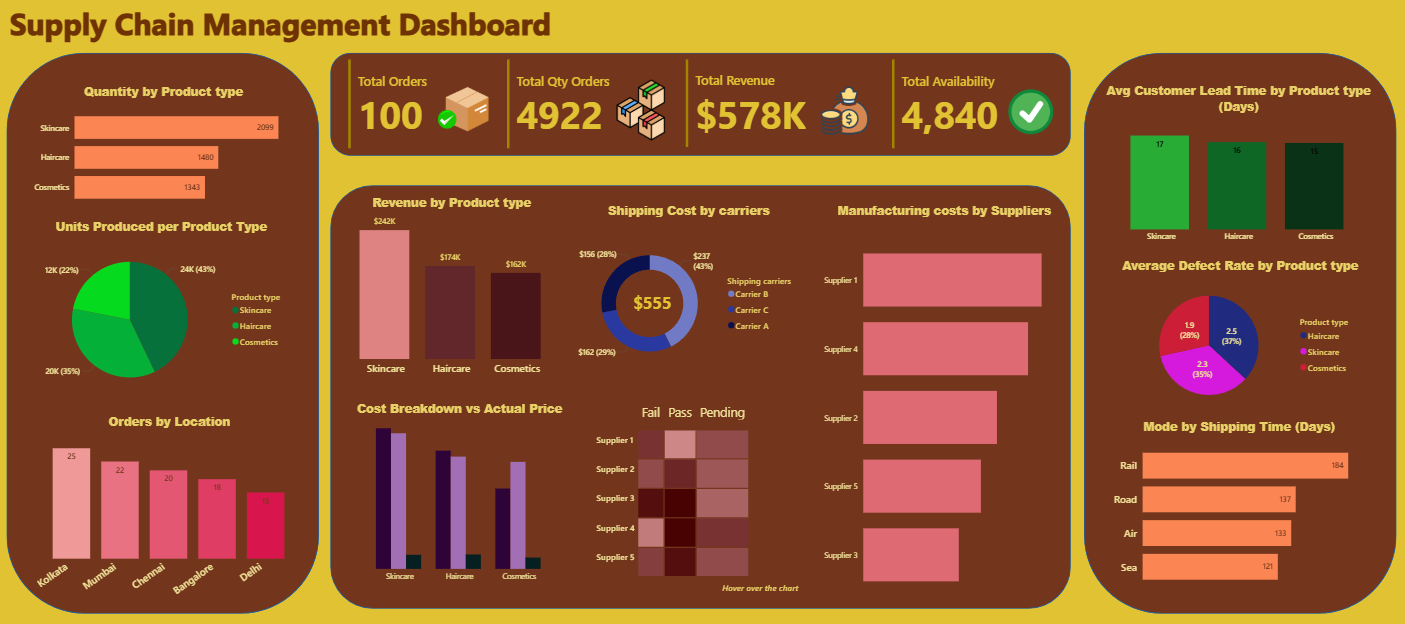

The page's visual inventory and layout, read from the dashboard file:
{"tool":"powerbi","page":{"name":"Page 1","canvas":[2250,1000],"ordinal":0},"visuals":[{"type":"textbox","box":[12.5,0,880,77.5],"z":0},{"type":"shape","box":[12.5,85,500,897.5],"z":1000},{"type":"shape","box":[530,85,1185,165],"z":2000},{"type":"shape","box":[530,297.5,1185,677.5],"z":3000},{"type":"shape","box":[1735,85,500,897.5],"z":4000},{"type":"cardVisual","title":"Total Orders","fields":{"Data":["supply_chain_data.Total Orders"]},"box":[554,92,276,152],"z":5000},{"type":"image","box":[662.9,114.3,168.6,127.1],"z":6000},{"type":"cardVisual","title":"Total Orders","fields":{"Data":["supply_chain_data.Total Qty Orders"]},"box":[808,92,300,152],"z":7000},{"type":"image","box":[971.7,121.7,110,111.7],"z":8000},{"type":"cardVisual","title":"Total Orders","fields":{"Data":["supply_chain_data.Total Revenue"]},"box":[1093.3,91.7,321.7,150],"z":9000},{"type":"image","box":[1310,131.7,86.7,93.3],"z":10000},{"type":"cardVisual","title":"Total Orders","fields":{"Data":["supply_chain_data.Total Availability"]},"box":[1424,92,274,152],"z":11000},{"type":"image","box":[1610,134.3,81.4,92.9],"z":12000},{"type":"barChart","title":"Quantity by Product type","fields":{"Category":["supply_chain_data.Product type"],"Y":["supply_chain_data.Total Qty Orders"]},"box":[50,133.3,426.7,211.7],"z":13000},{"type":"columnChart","title":"Orders by Location","fields":{"Category":["supply_chain_data.Location"],"Y":["supply_chain_data.Total Orders"]},"box":[50,662.5,445,312.5],"z":14000},{"type":"columnChart","fields":{"Category":["supply_chain_data.Product type"],"Y":["supply_chain_data.Total Revenue"]},"box":[530,311.7,388.3,300],"z":15000},{"type":"barChart","title":"Manufacturing costs by Suppliers","fields":{"Category":["supply_chain_data.Supplier name"],"Y":["Sum(supply_chain_data.Manufacturing costs)"]},"box":[1310,323,405,660],"z":16000},{"type":"clusteredColumnChart","title":"Cost Breakdown vs Actual Price","fields":{"Category":["supply_chain_data.Product type"],"Y":["Sum(supply_chain_data.Manufacturing costs)","Sum(supply_chain_data.Price)","Sum(supply_chain_data.Shipping costs)"]},"box":[560,642,354,300],"z":17000},{"type":"pieChart","title":"Units Produced per Product Type","fields":{"Category":["supply_chain_data.Product type"],"Y":["Sum(supply_chain_data.Production volumes)"]},"box":[42.5,350,435,300],"z":18000},{"type":"donutChart","title":"Shipping Cost by carriers","fields":{"Category":["supply_chain_data.Shipping carriers"],"Y":["supply_chain_data.Total Shipping Cost"]},"box":[911.7,323.3,383.3,300],"z":19000},{"type":"card","fields":{"Values":["supply_chain_data.Total Shipping Cost"]},"box":[1008,451,75,70],"z":20000},{"type":"pieChart","fields":{"Category":["supply_chain_data.Product type"],"Y":["supply_chain_data.Average Defect Rate"]},"box":[1785,411.7,400,258.3],"z":21000},{"type":"columnChart","title":"Avg Customer Lead Time by Product type (Days)","fields":{"Category":["supply_chain_data.Product type"],"Y":["supply_chain_data.Avg Lead Time"]},"box":[1756.7,131.7,455,266.7],"z":22000},{"type":"clusteredBarChart","title":"Mode by Shipping Time (Days)","fields":{"Category":["supply_chain_data.Transportation modes"],"Y":["supply_chain_data.shipping time"]},"box":[1777.5,670,412.5,287.5],"z":23000},{"type":"pivotTable","fields":{"Rows":["supply_chain_data.Supplier name"],"Columns":["supply_chain_data.Inspection results"],"Values":["CountNonNull(supply_chain_data.Inspection results)"]},"box":[946.2,636.2,337.5,306.2],"z":24000},{"type":"textbox","box":[1152,928,144,30],"z":25000}]}

Visuals, with their boxes in screenshot pixels (x1, y1, x2, y2), scaled from the page's 2250x1000 canvas onto the 1405x624 screenshot:
textbox: bbox=[8, 0, 557, 48]
shape: bbox=[8, 53, 320, 613]
shape: bbox=[331, 53, 1071, 156]
shape: bbox=[331, 186, 1071, 608]
shape: bbox=[1083, 53, 1396, 613]
"Total Orders" cardVisual: bbox=[346, 57, 518, 152]
image: bbox=[414, 71, 519, 151]
"Total Orders" cardVisual: bbox=[505, 57, 692, 152]
image: bbox=[607, 76, 675, 146]
"Total Orders" cardVisual: bbox=[683, 57, 884, 151]
image: bbox=[818, 82, 872, 140]
"Total Orders" cardVisual: bbox=[889, 57, 1060, 152]
image: bbox=[1005, 84, 1056, 142]
"Quantity by Product type" barChart: bbox=[31, 83, 298, 215]
"Orders by Location" columnChart: bbox=[31, 413, 309, 608]
columnChart - supply_chain_data.Product type x supply_chain_data.Total Revenue: bbox=[331, 195, 573, 382]
"Manufacturing costs by Suppliers" barChart: bbox=[818, 202, 1071, 613]
"Cost Breakdown vs Actual Price" clusteredColumnChart: bbox=[350, 401, 571, 588]
"Units Produced per Product Type" pieChart: bbox=[27, 218, 298, 406]
"Shipping Cost by carriers" donutChart: bbox=[569, 202, 809, 389]
card - supply_chain_data.Total Shipping Cost: bbox=[629, 281, 676, 325]
pieChart - supply_chain_data.Product type x supply_chain_data.Average Defect Rate: bbox=[1115, 257, 1364, 418]
"Avg Customer Lead Time by Product type (Days)" columnChart: bbox=[1097, 82, 1381, 249]
"Mode by Shipping Time (Days)" clusteredBarChart: bbox=[1110, 418, 1368, 597]
pivotTable - supply_chain_data.Supplier name x supply_chain_data.Inspection results: bbox=[591, 397, 802, 588]
textbox: bbox=[719, 579, 809, 598]
